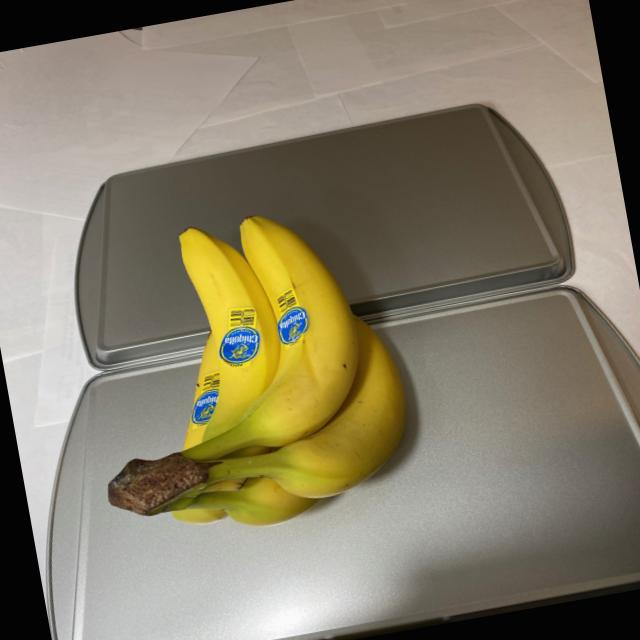banana: (52, 188, 438, 556)
